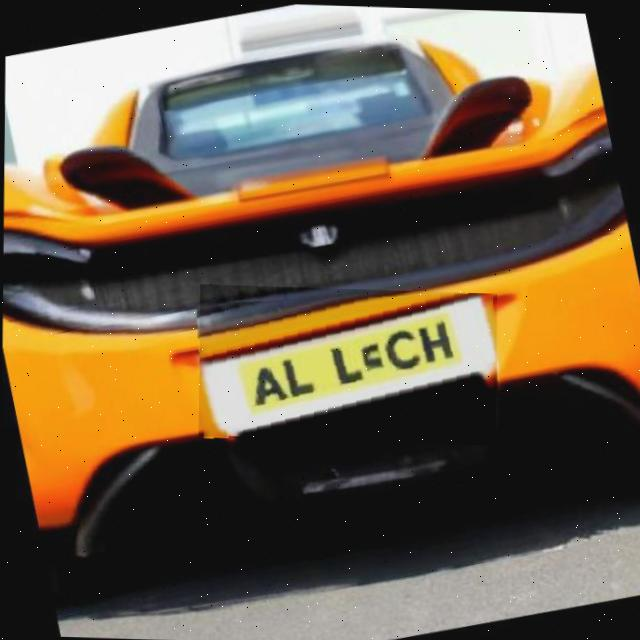LicensePlate: (199, 292, 495, 436)
